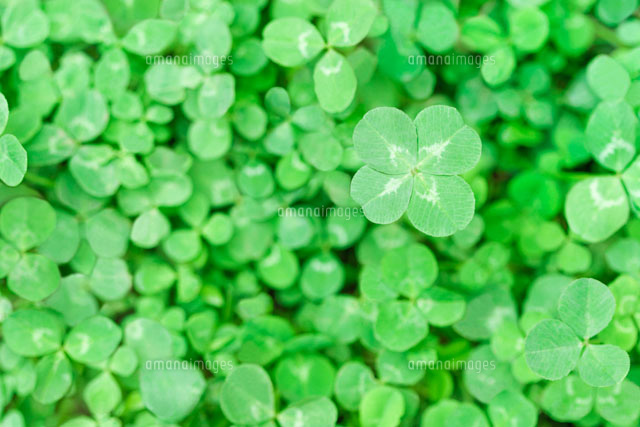4-clover: (351, 103, 482, 234)
